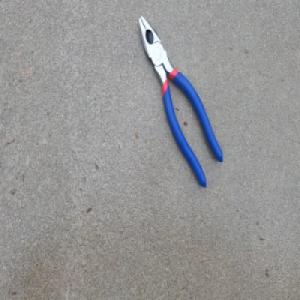Pliers: (137, 13, 225, 189)
